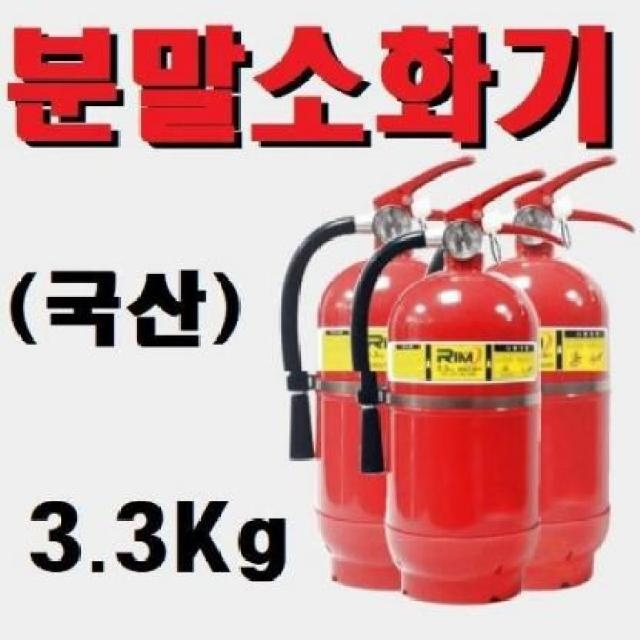fire extinguisher: (349, 168, 566, 606), (280, 154, 477, 594), (483, 155, 635, 590)
